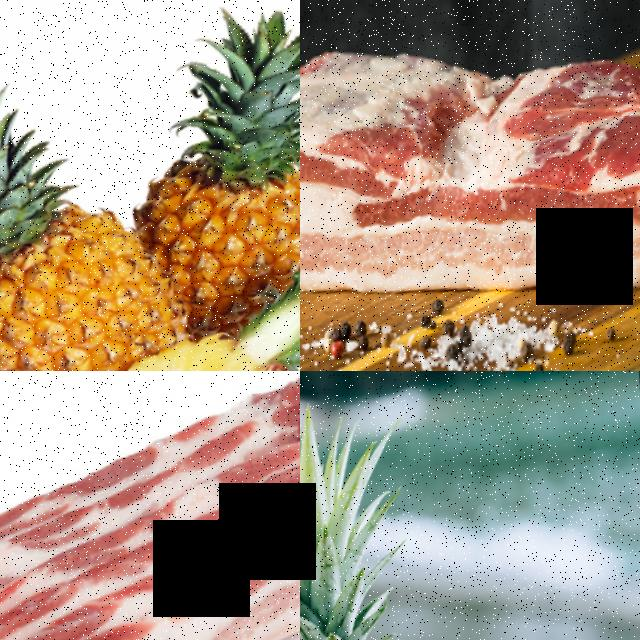pineapple: (0, 165, 167, 371), (134, 86, 300, 269), (129, 275, 300, 371)
pork belly: (0, 371, 300, 640), (300, 20, 504, 319), (449, 0, 640, 319)
